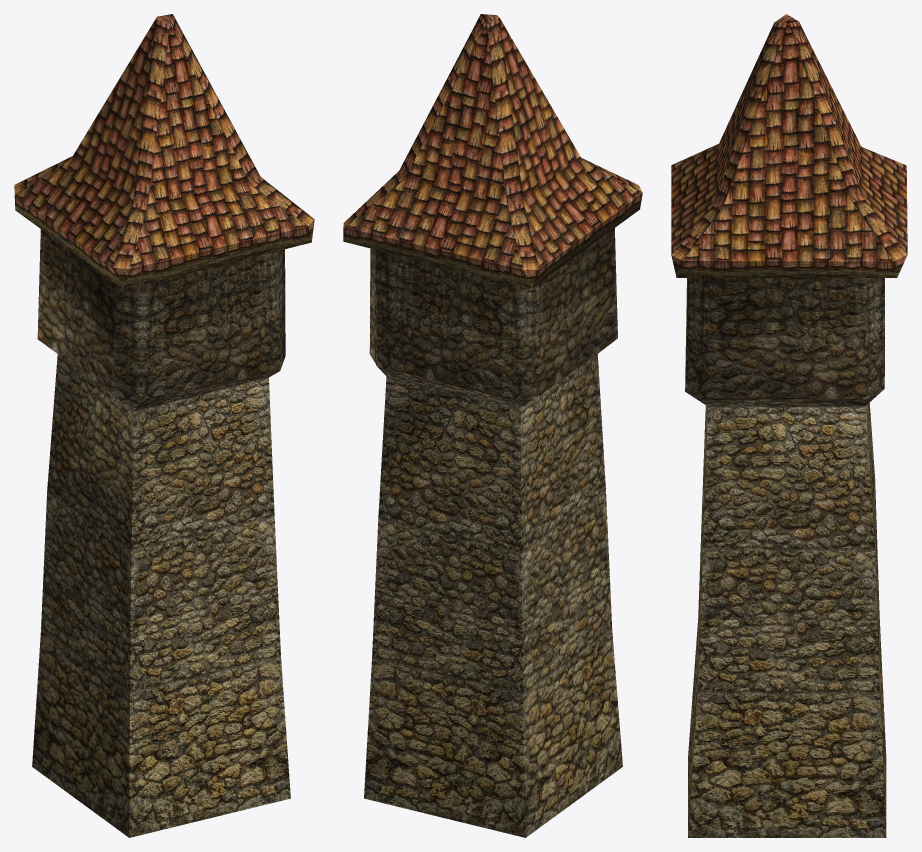
The model's file is hrz10.glb.
3 renders of one model, left to right at view 1: azimuth 30°, elevation 25°; view 2: azimuth 150°, elevation 25°; view 3: azimuth 270°, elevation 25°, orthographic. The views are drawn at different scales.
Parts seen in each view (by area): view 1: hrz10-col; view 2: hrz10-col; view 3: hrz10-col.
Boxes of the visible parts, bbox=[...] form: hrz10-col: bbox=[14, 14, 314, 837]; hrz10-col: bbox=[343, 14, 642, 837]; hrz10-col: bbox=[671, 14, 907, 837].
Bounding box in the file's own units: 6.02 × 21.92 × 6.02.
6 materials, 6 textured.
